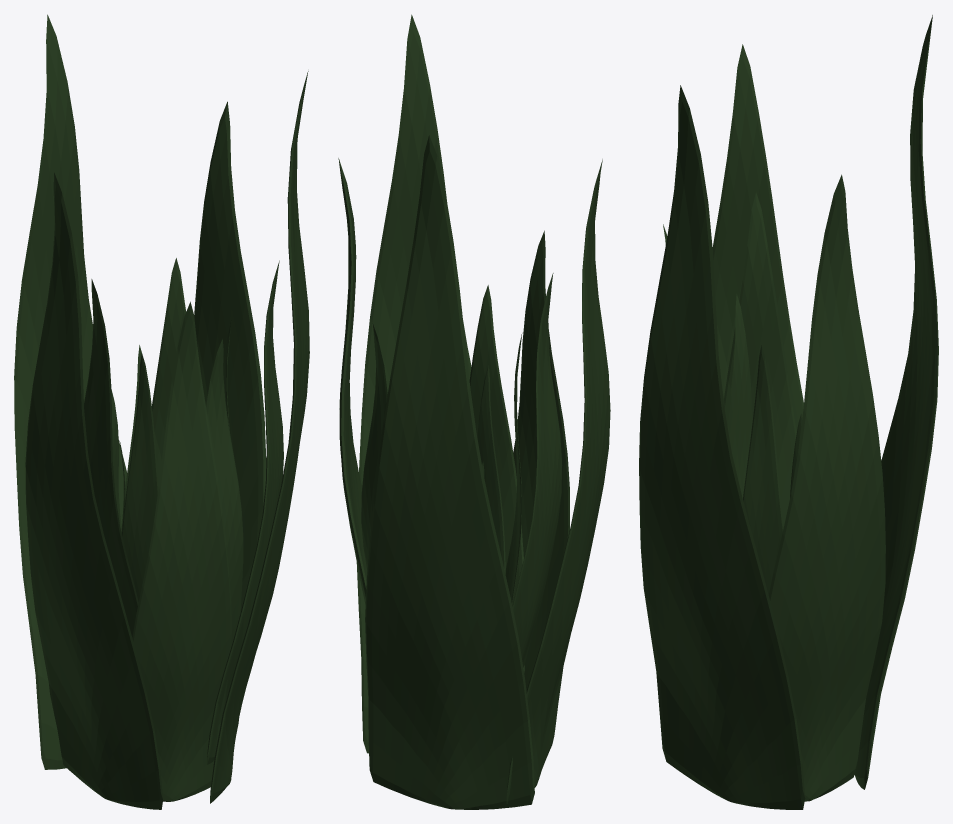
Rendered from plante_grasse.fbx.
3 renders of one model, left to right at view 1: azimuth 30°, elevation 25°; view 2: azimuth 150°, elevation 25°; view 3: azimuth 270°, elevation 25°, orthographic. The views are drawn at different scales.
Visible parts, largest first — view 1: polySurface25, polySurface142, polySurface139, polySurface140, polySurface143, polySurface23, polySurface21, polySurface137, polySurface22, polySurface141, polySurface24; view 2: polySurface139, polySurface25, polySurface143, polySurface142, polySurface23, polySurface22, polySurface140, polySurface141, polySurface135, polySurface137; view 3: polySurface143, polySurface140, polySurface139, polySurface25, polySurface23, polySurface138, polySurface137.
Boxes of the visible parts, box(x1,y1,x2,y2) form: polySurface25: box(25, 172, 162, 809); polySurface142: box(132, 301, 231, 801); polySurface139: box(14, 14, 126, 769); polySurface140: box(194, 101, 266, 611); polySurface143: box(210, 71, 309, 803); polySurface23: box(84, 279, 138, 637); polySurface21: box(207, 260, 283, 764); polySurface137: box(122, 353, 158, 601); polySurface22: box(206, 339, 243, 647); polySurface141: box(152, 258, 186, 486); polySurface24: box(111, 390, 121, 531); polySurface139: box(365, 135, 534, 809); polySurface25: box(506, 159, 610, 803); polySurface143: box(356, 14, 471, 753); polySurface142: box(513, 230, 569, 690); polySurface23: box(512, 273, 562, 667); polySurface22: box(469, 285, 524, 672); polySurface140: box(338, 158, 367, 604); polySurface141: box(361, 323, 387, 570); polySurface135: box(477, 365, 505, 574); polySurface137: box(505, 333, 522, 604); polySurface143: box(639, 85, 805, 809); polySurface140: box(768, 174, 885, 801); polySurface139: box(854, 15, 938, 789); polySurface25: box(712, 44, 803, 432); polySurface23: box(724, 192, 796, 526); polySurface138: box(743, 345, 783, 594); polySurface137: box(727, 294, 752, 498).
Size of the model in its own units: 0.5872 by 1.61 by 0.585.
